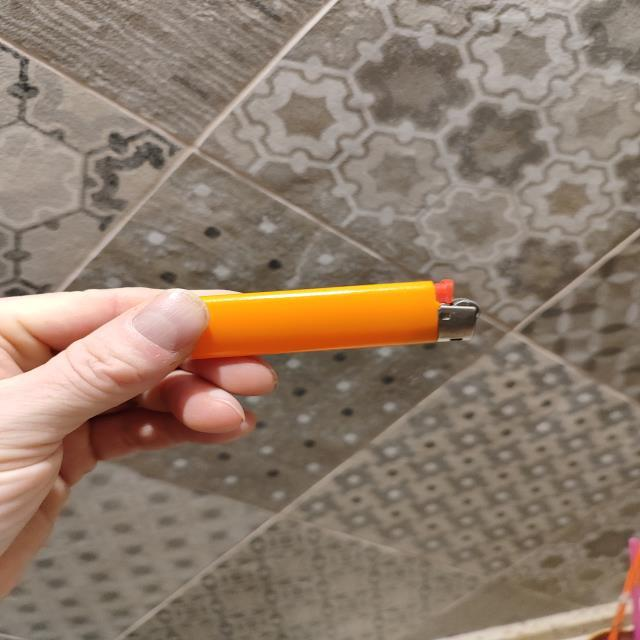lighter: (192, 280, 478, 359)
